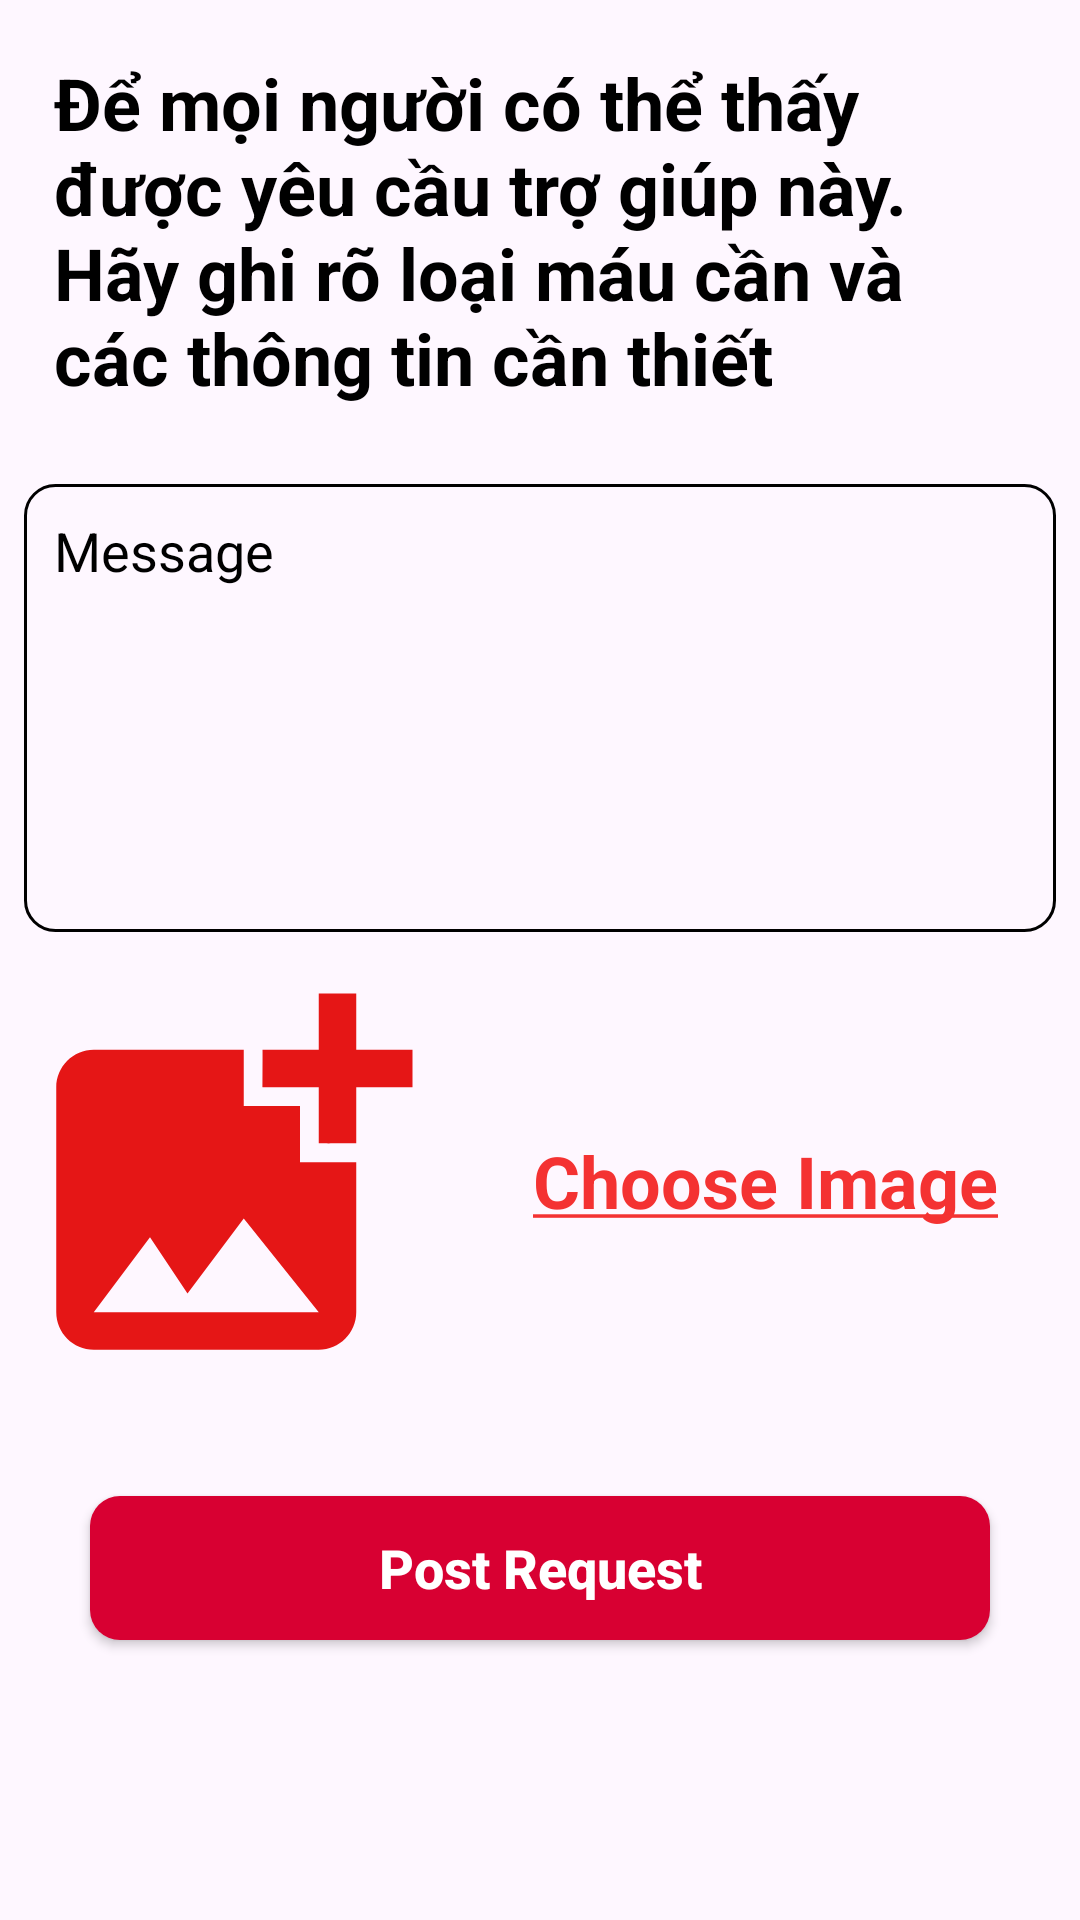

Point at icon controls on the screen. Image size 1080*1920, points as (x,y).
add photo alternate: (234,1171)
